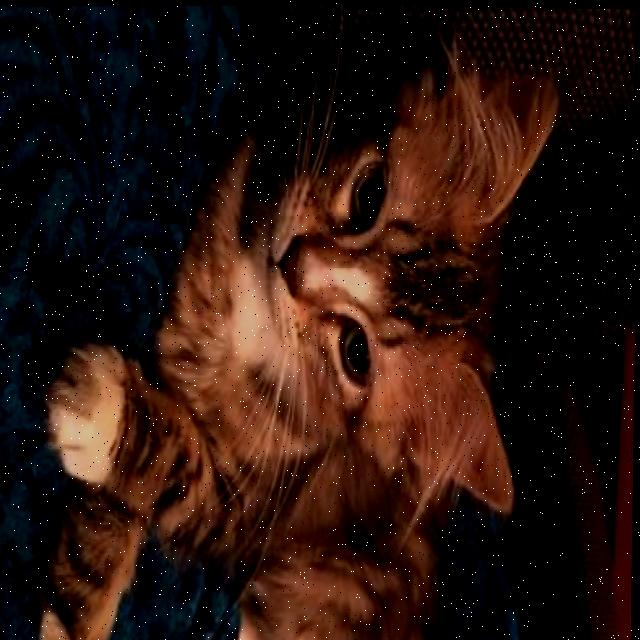Maine Coon: (24, 38, 576, 640)
